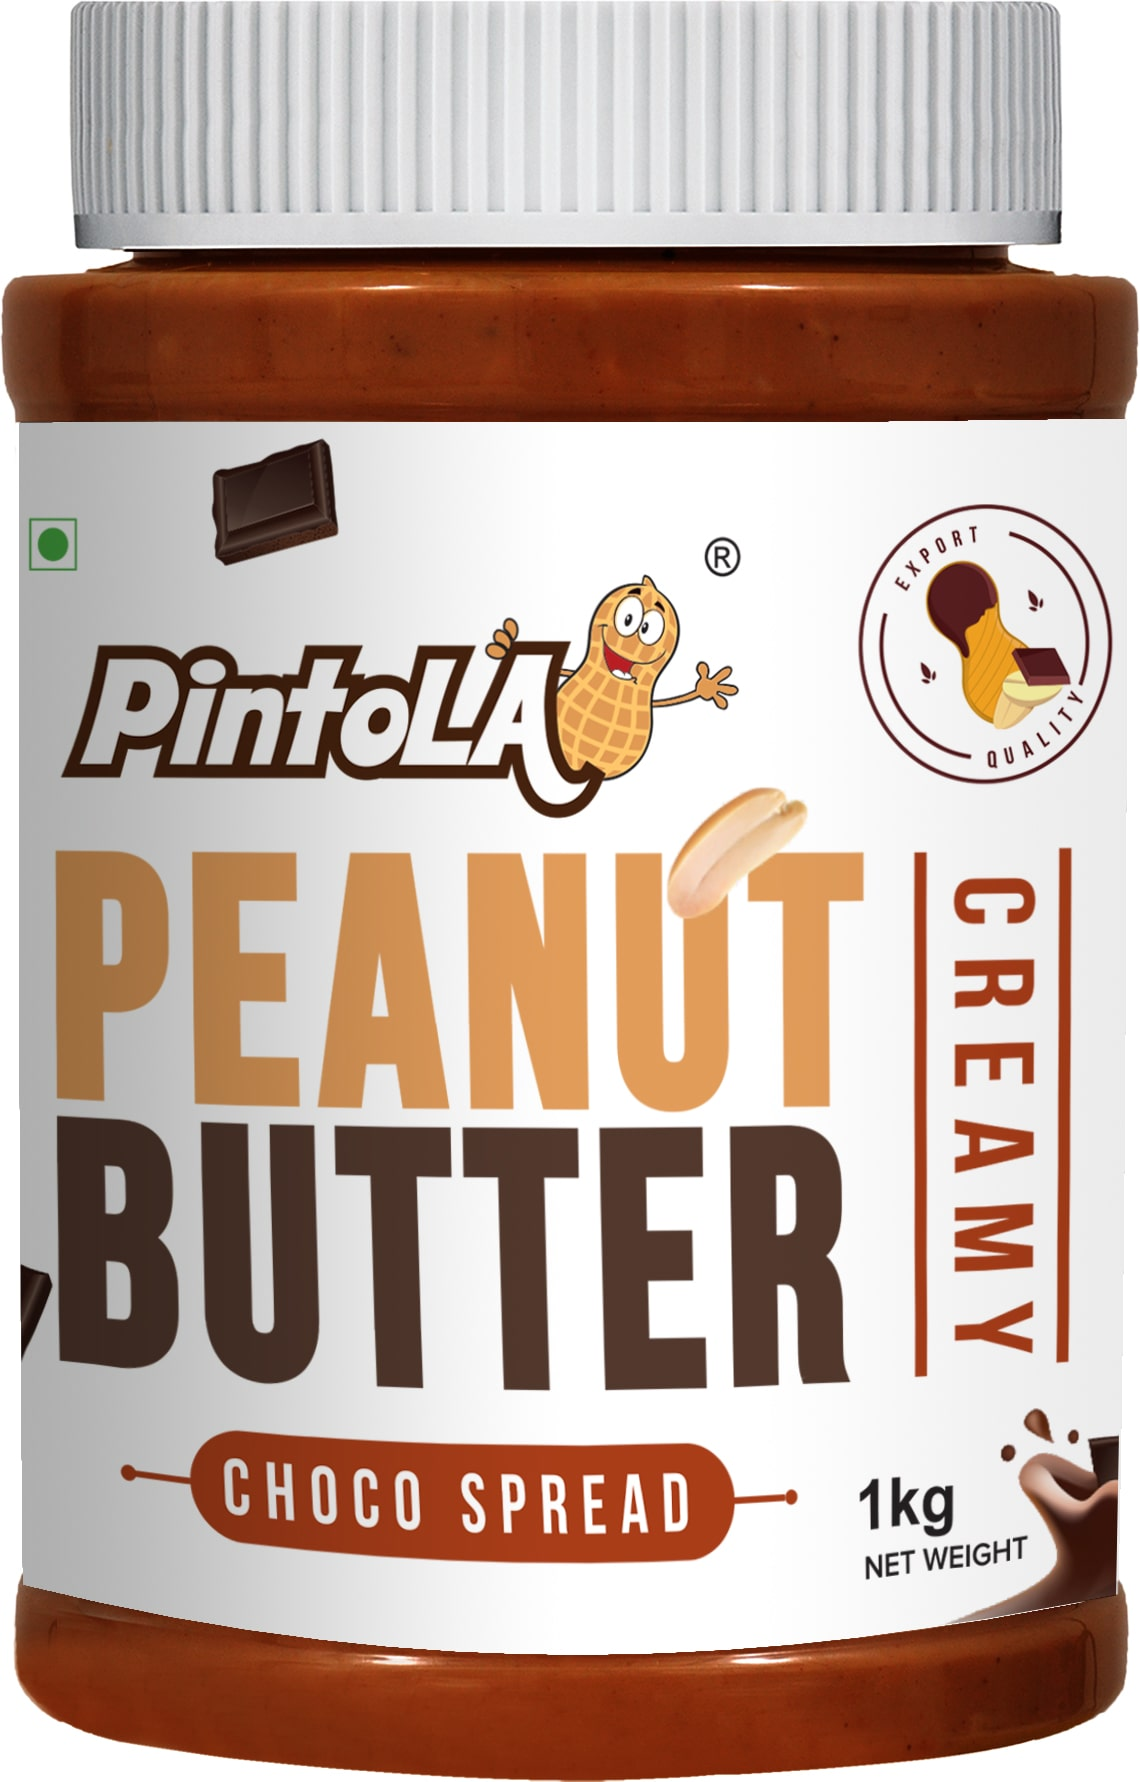JAR: (3, 5, 1131, 1782)
